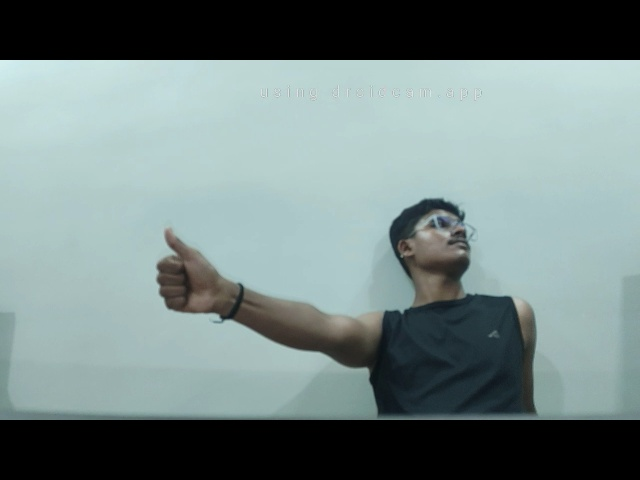thanks: (142, 222, 240, 325)
